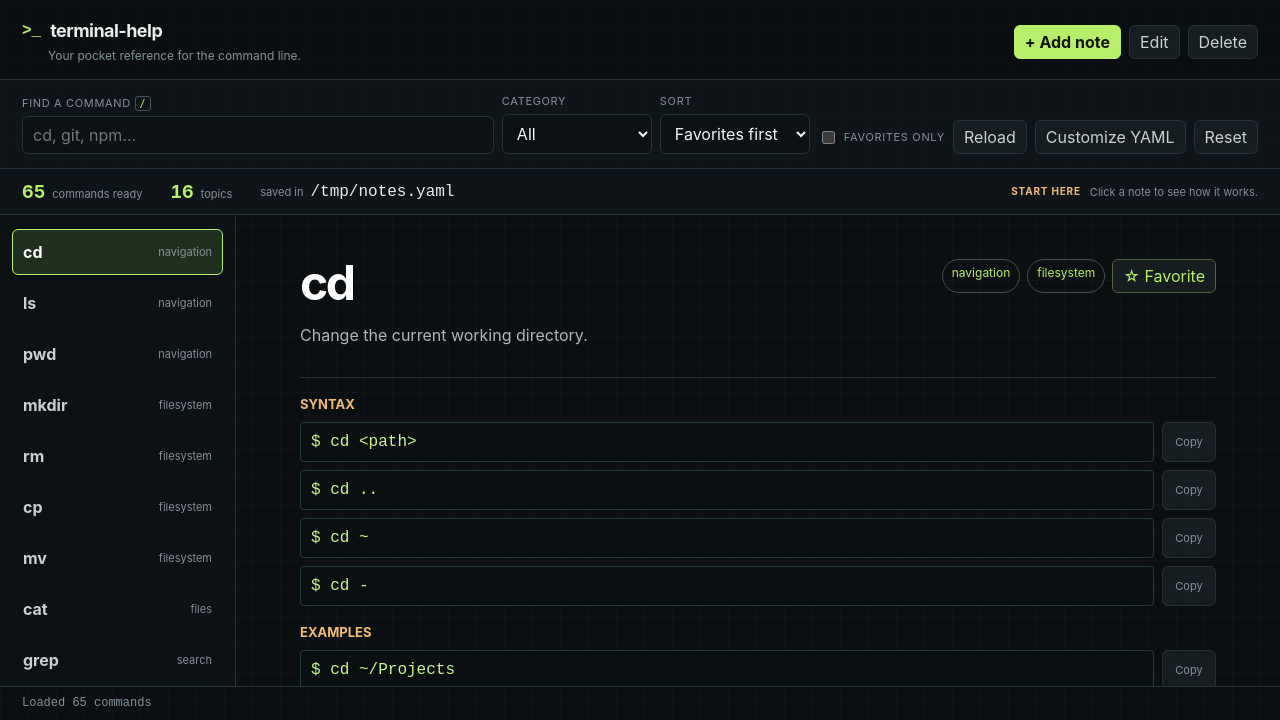
it: renderer app › persists edits through the Electron bridge
The width and height of the screenshot is (1280, 720).
Expected: the text "Change the current working directory." is shown, [300,323,588,347]
Click the button "Edit" at (1154,42), box [1129,24,1180,58]
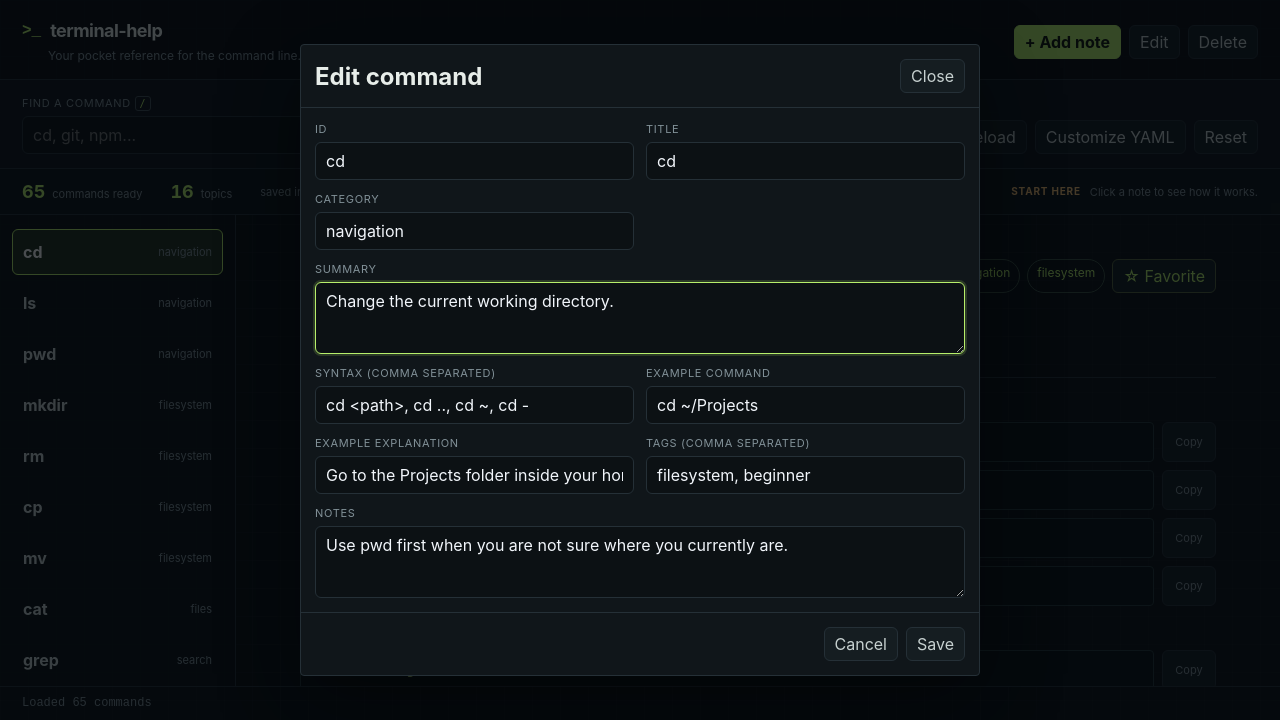
Replace the text in the text box showing "Change the current working directory." with "Move to another folder." at (640,318), box [315,282,965,354]
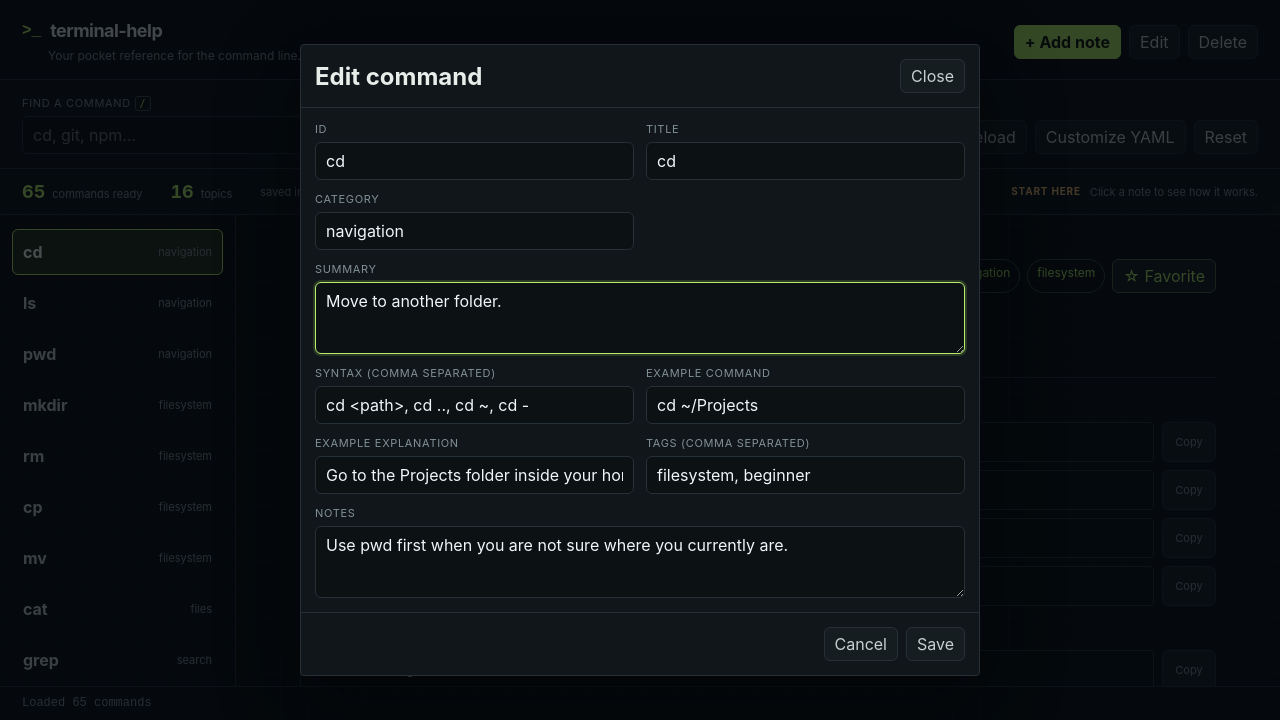
Click the button "Save" at (936,644), box [906,627,965,661]
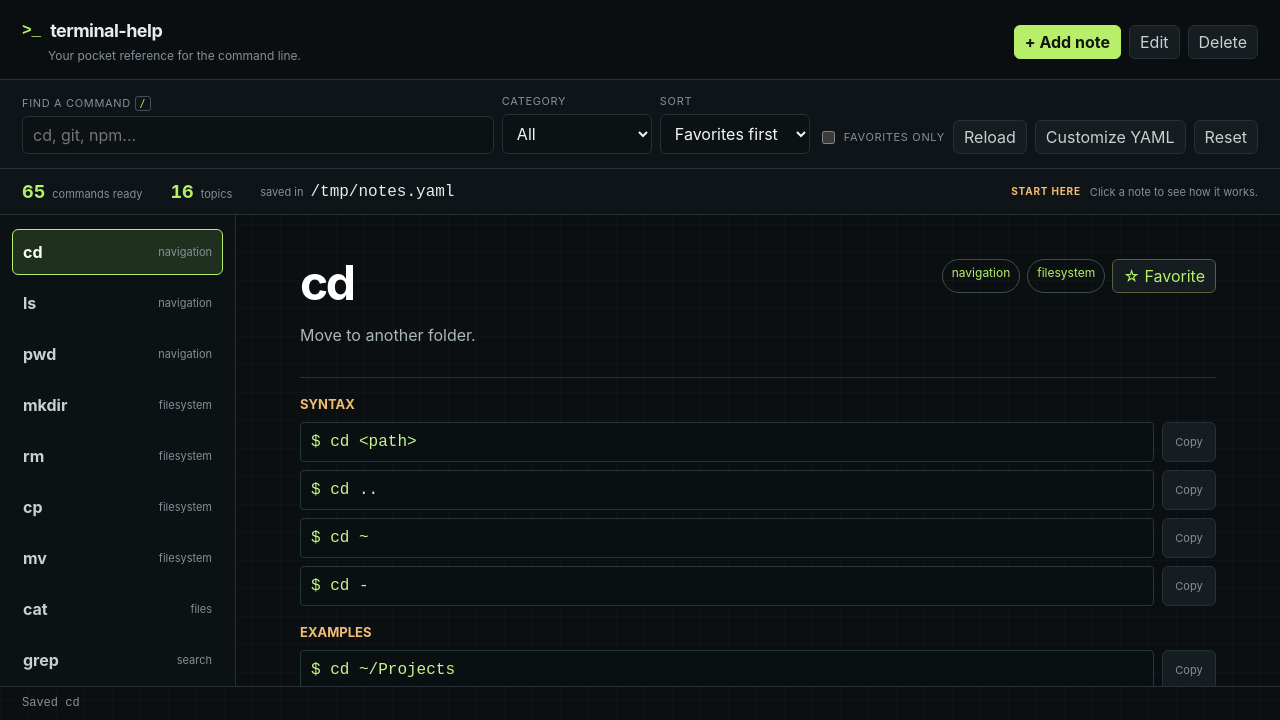
Result: the text "Change the current working directory." reads "Move to another folder." at [300,325,476,345]
